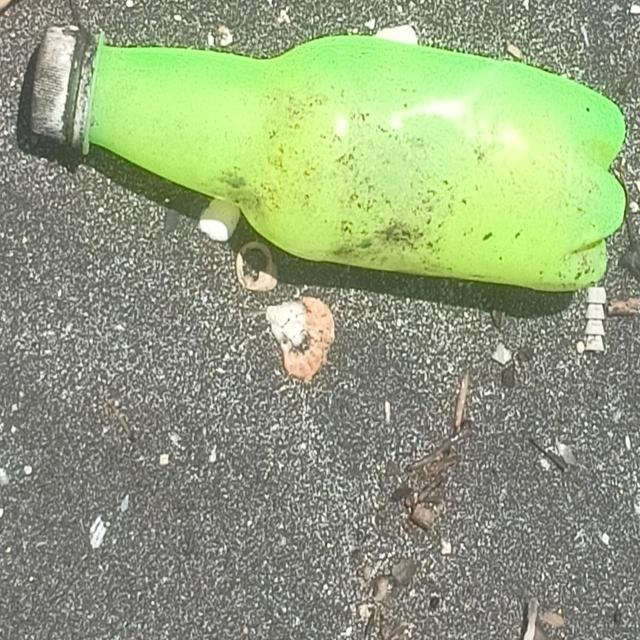plastic_waste: (32, 29, 630, 297)
